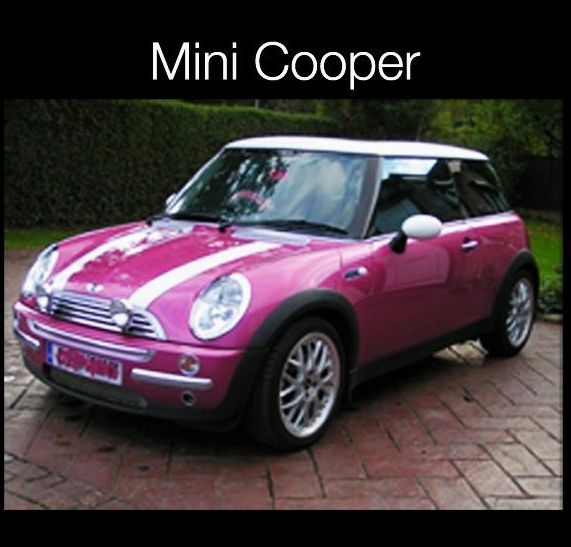ARABA: (9, 135, 542, 453)
